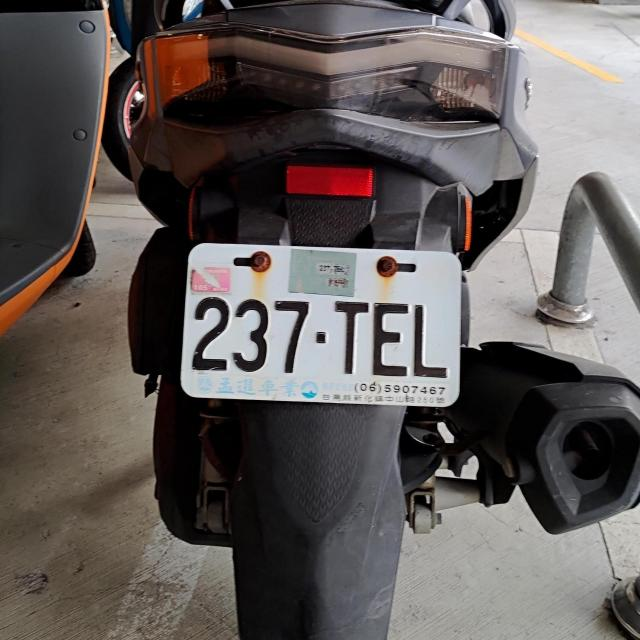W: (178, 242, 462, 407)
